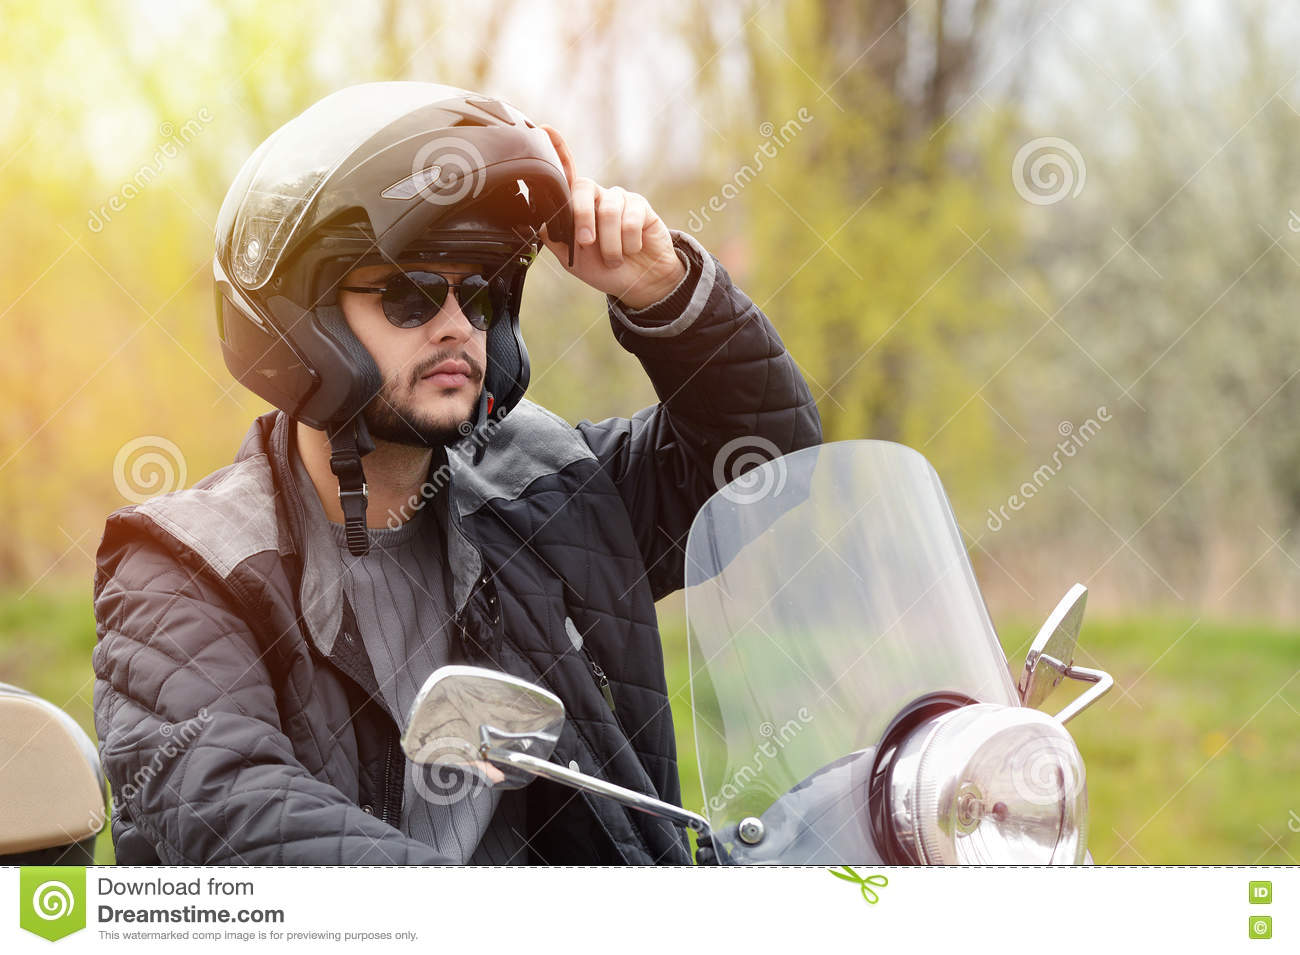helmet: (205, 103, 580, 437)
